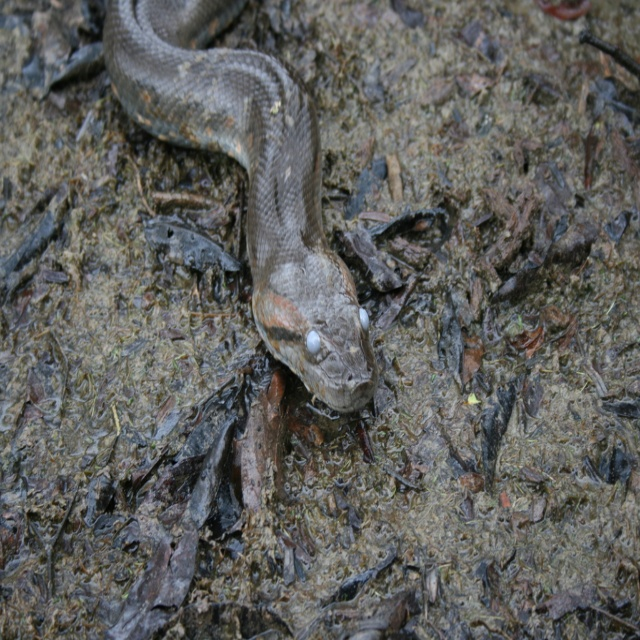Snake: (101, 0, 379, 417)
